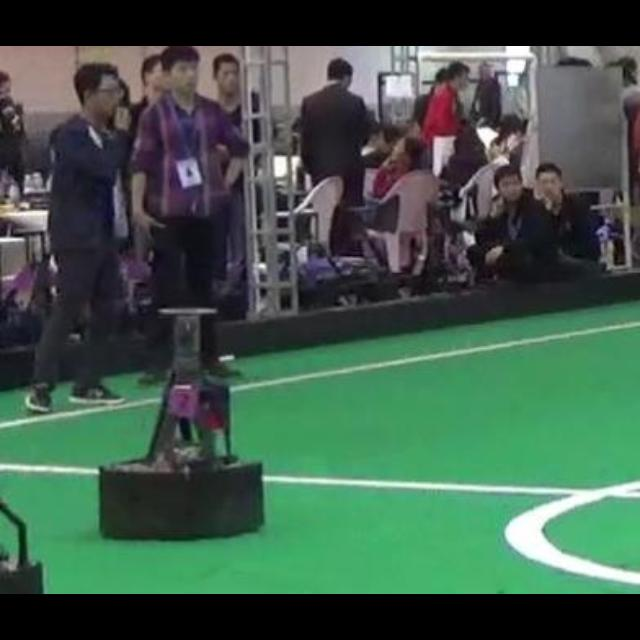robot: (100, 310, 263, 541)
